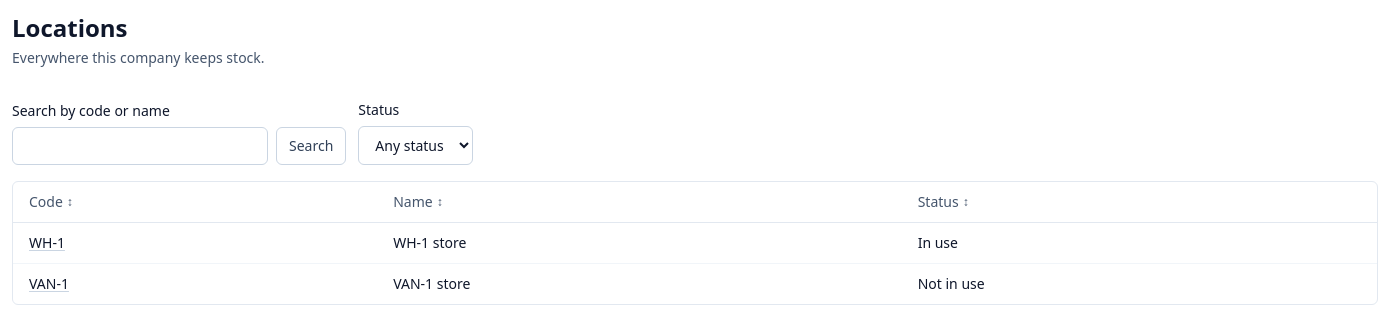
LocationsPage › the list › filters to what is in use, under the platform’s filter convention
The image size is (1378, 322).
Expected: the button "VAN-1" is shown, [29,274,69,294]
Select "In use" in the dropdown labelled "Status": (416, 146) [358,126,473,165]
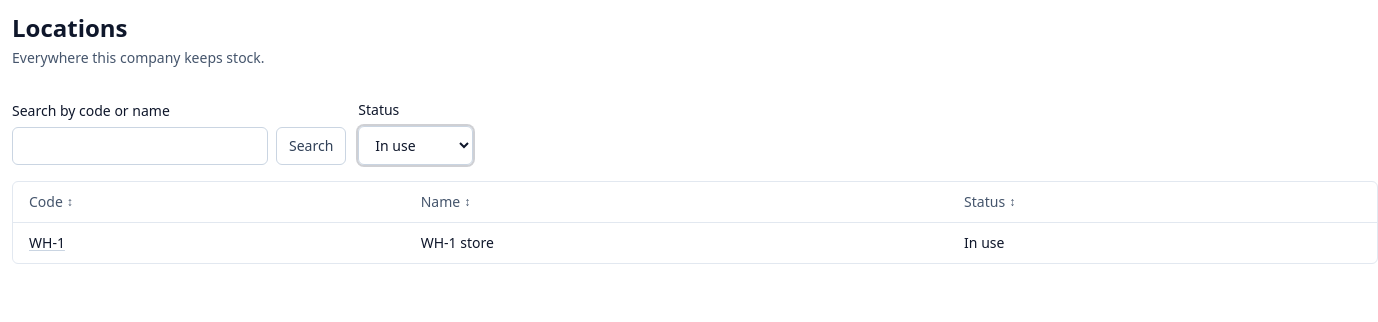
Expected: the button "VAN-1" is gone
